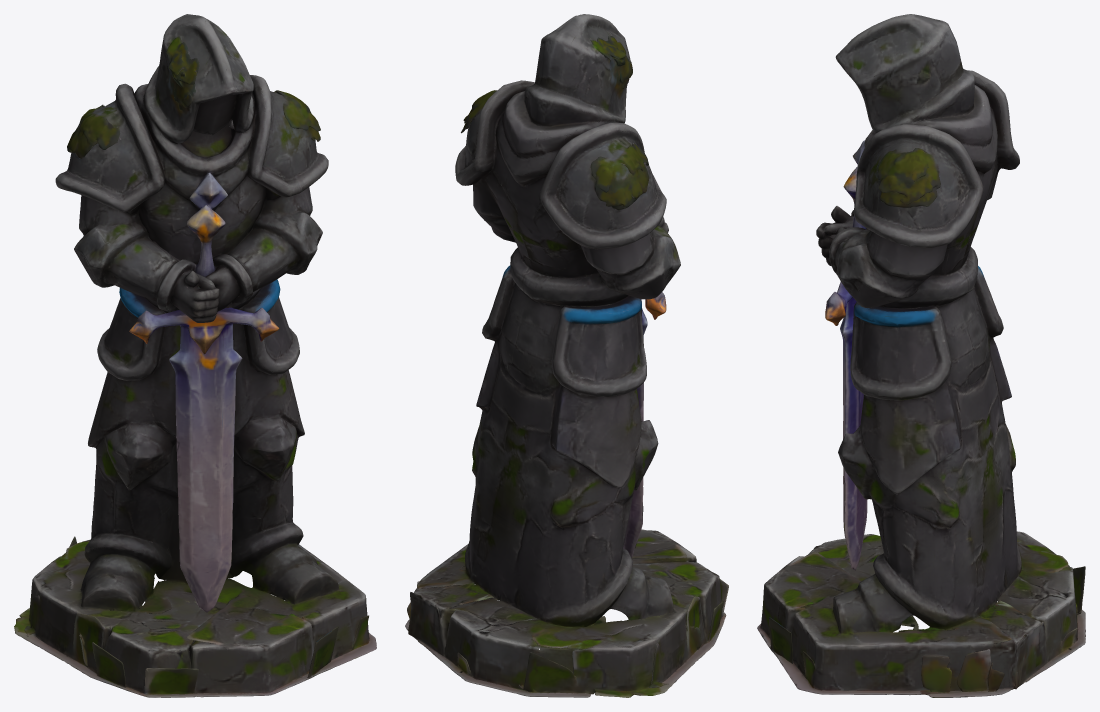
Rendered from lanes_statue.glb.
3 views of the same model, side by side, from view 1: azimuth 30°, elevation 25°; view 2: azimuth 150°, elevation 25°; view 3: azimuth 270°, elevation 25° (orthographic).
Visible parts, largest first — view 1: geometry_0; view 2: geometry_0; view 3: geometry_0.
Part boxes in pixels (x1=…): geometry_0: x1=14, y1=14, x2=376, y2=697; geometry_0: x1=405, y1=14, x2=728, y2=697; geometry_0: x1=757, y1=14, x2=1085, y2=697.
Bounding box in the file's own units: 0.4633 × 1 × 0.4818.
Materials: 1 (1 with a texture image).
